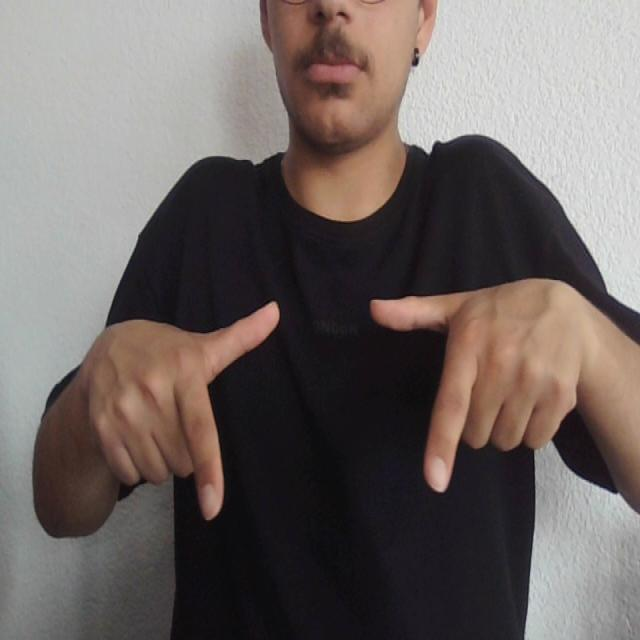Nerede: (160, 282, 499, 534)
